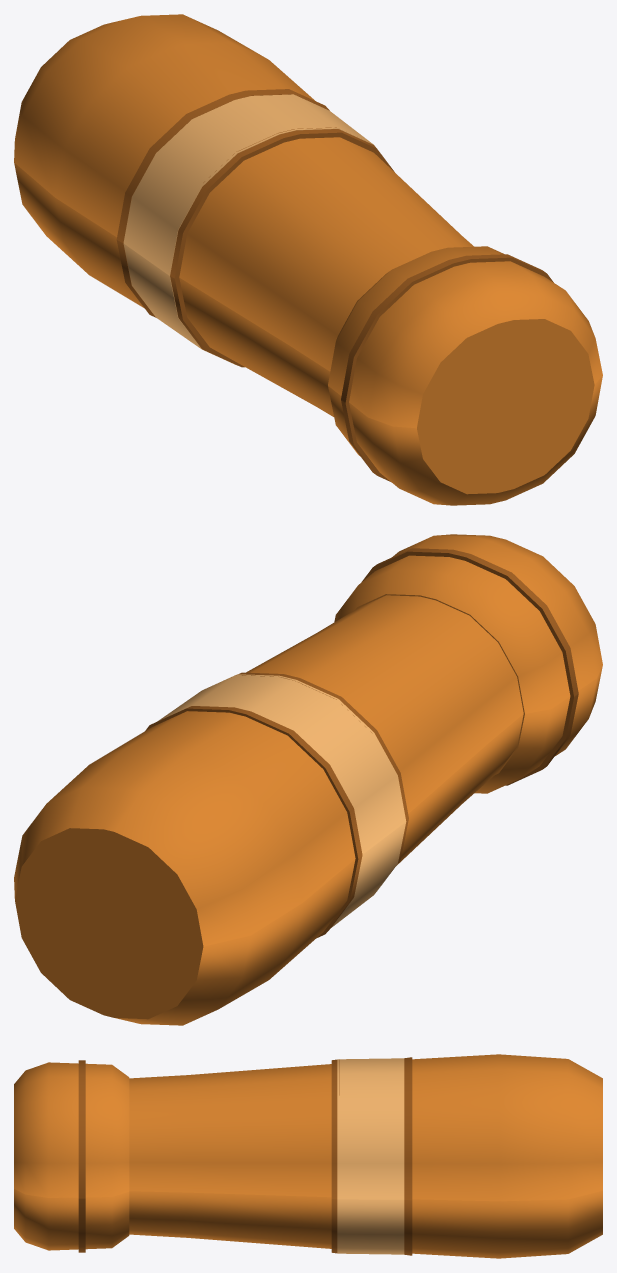
Rendered from avant_bras.glb.
3 renders of one model, top to bottom at view 1: azimuth 30°, elevation 25°; view 2: azimuth 150°, elevation 25°; view 3: azimuth 270°, elevation 25°, orthographic. The views are drawn at different scales.
Visible parts, largest first — view 1: avant_bras; view 2: avant_bras; view 3: avant_bras.
Part boxes in pixels (bbox=[...]): avant_bras: bbox=[14, 14, 602, 505]; avant_bras: bbox=[14, 534, 602, 1025]; avant_bras: bbox=[14, 1054, 602, 1258].
Size of the model in its own units: 0.092 by 0.086 by 0.255.
